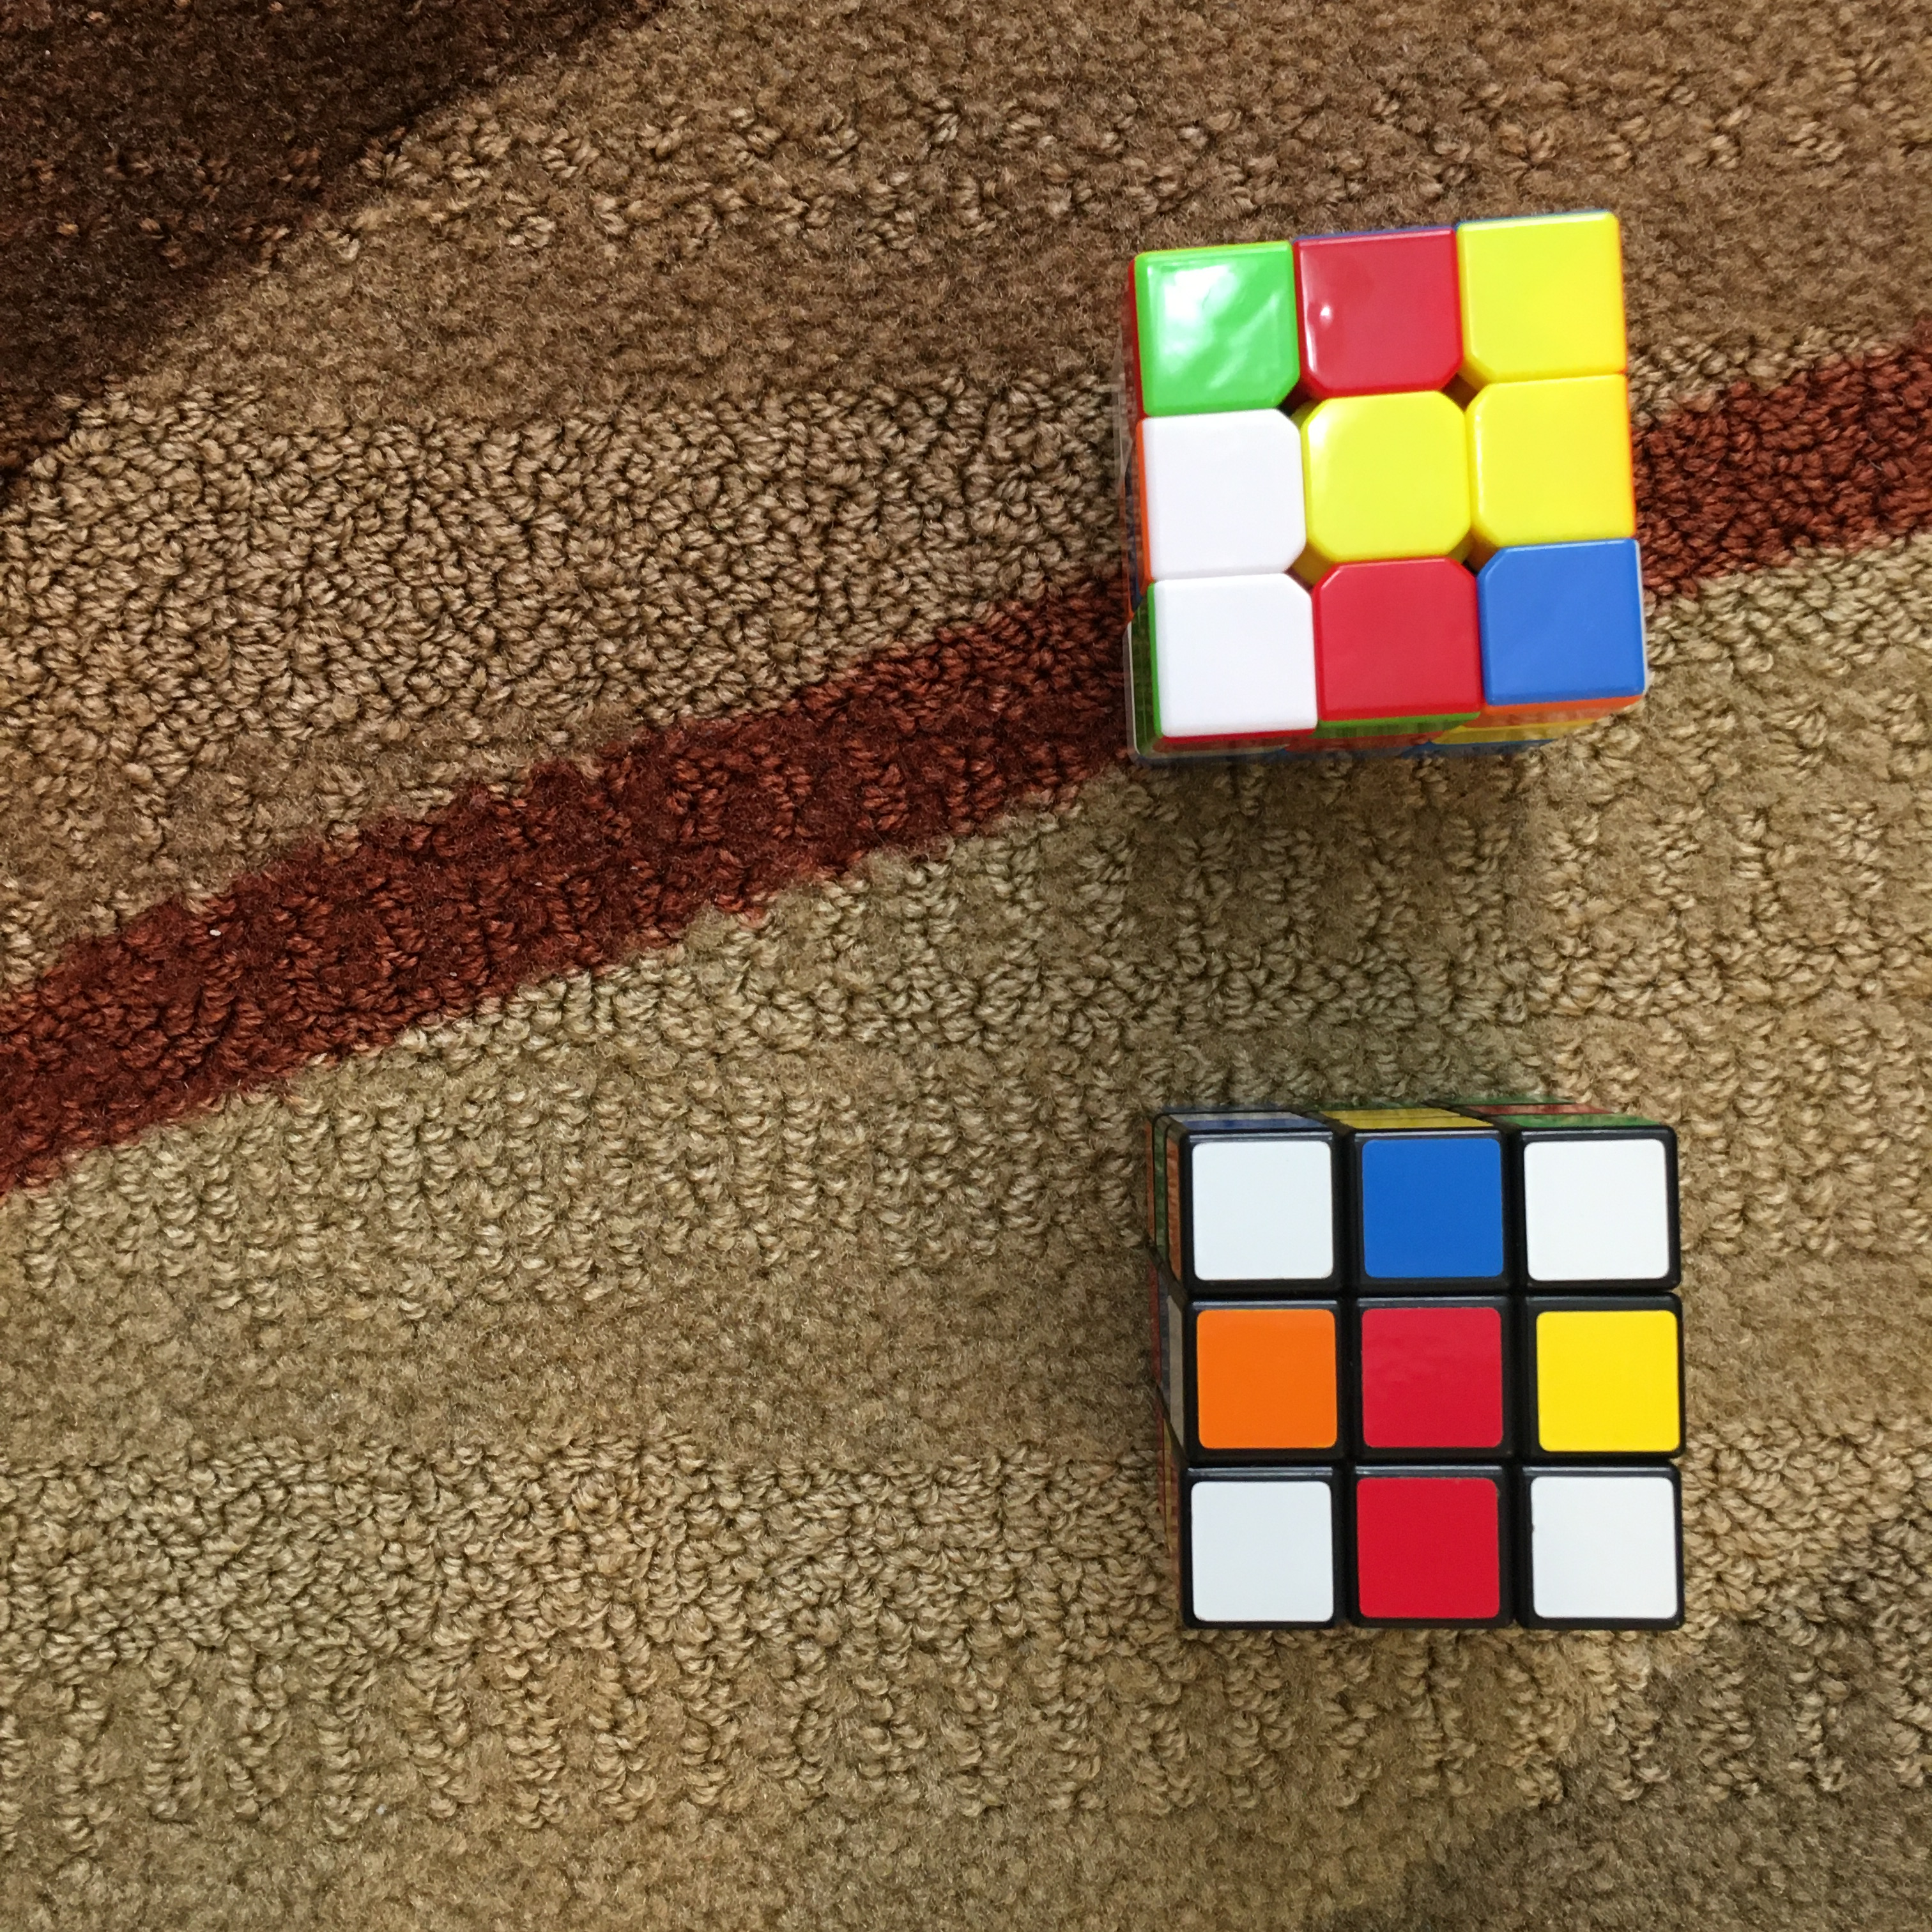face: (1134, 238, 1658, 720), (1187, 1129, 1685, 1629)
